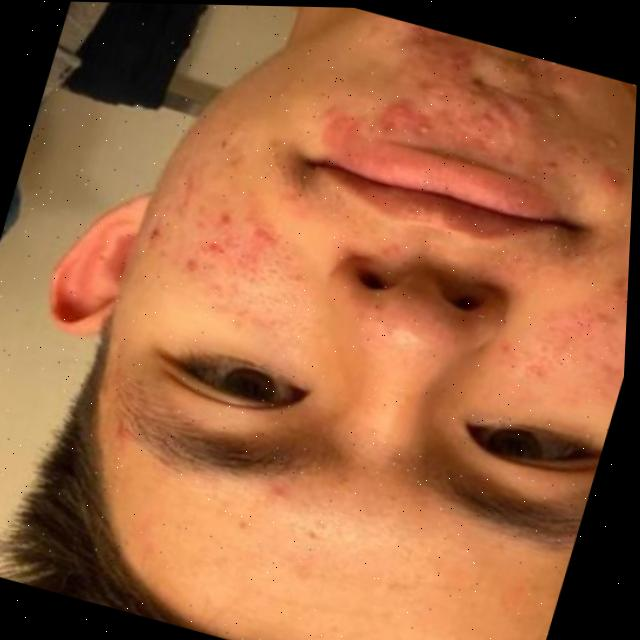Acne: (349, 20, 639, 219), (488, 254, 629, 414), (132, 161, 282, 309)
